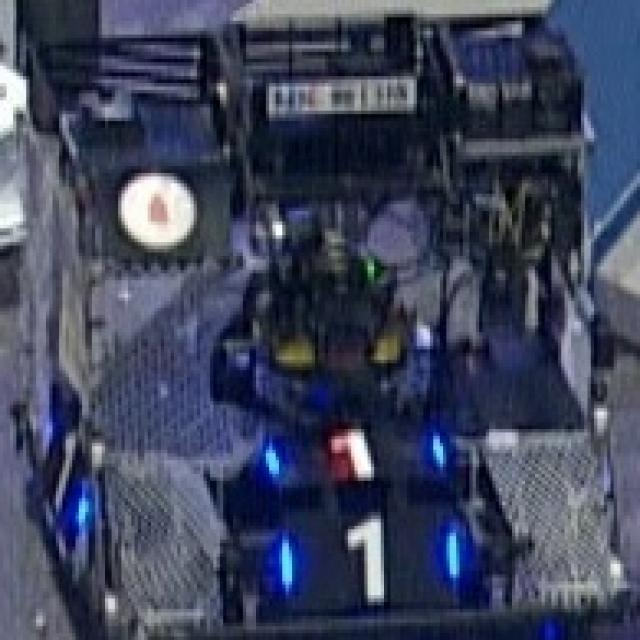B1: (266, 500, 472, 610), (249, 407, 456, 486), (33, 408, 95, 540)
